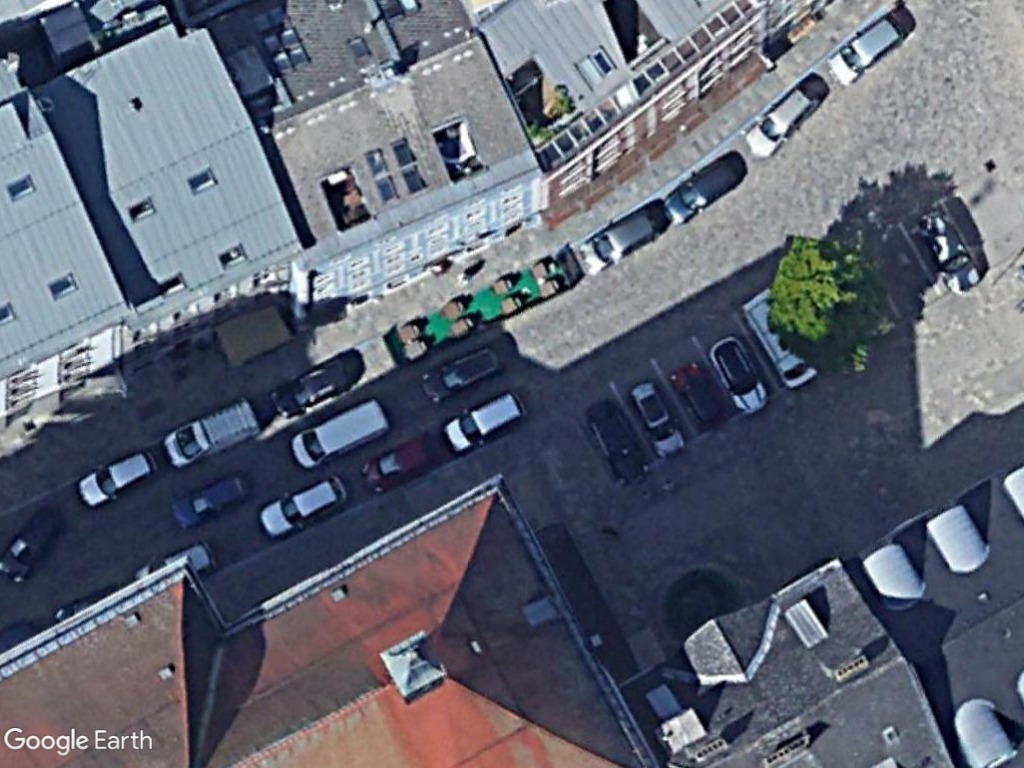car: (658, 148, 753, 229), (253, 470, 351, 544), (438, 382, 533, 458), (822, 8, 911, 89), (414, 338, 512, 410), (742, 75, 823, 162), (574, 202, 666, 278), (271, 344, 353, 429), (579, 392, 651, 486), (628, 375, 696, 467), (360, 427, 444, 500), (73, 442, 160, 512), (166, 464, 254, 530), (660, 351, 728, 436), (708, 334, 772, 417)
van: (286, 388, 395, 473), (157, 392, 267, 474)
